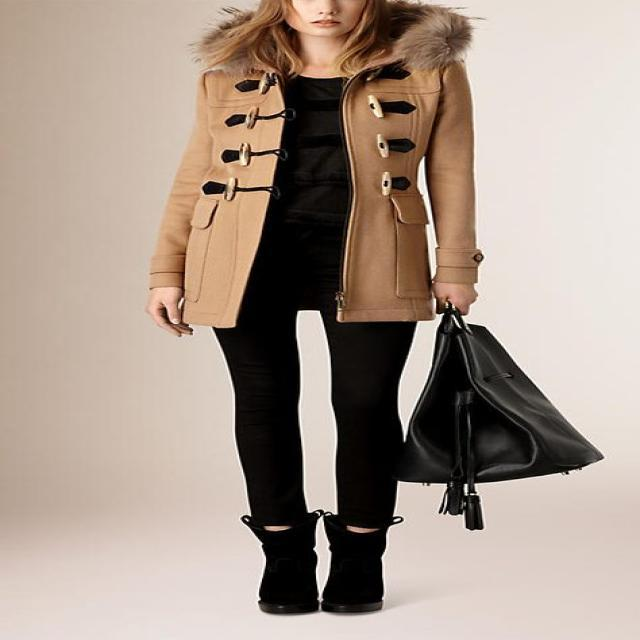coat: (145, 29, 485, 333)
short sleeve shirt: (248, 65, 364, 290)
trousers: (209, 280, 422, 533)
